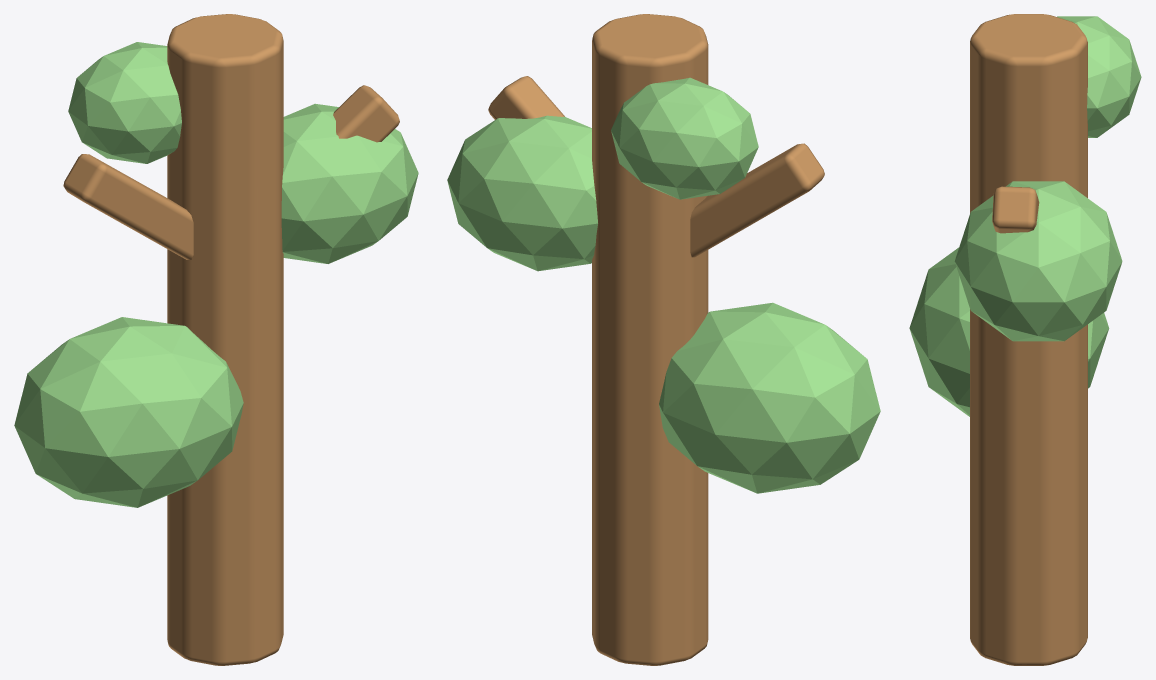
The model's file is Tree_Sparse.fbx.
3 renders of one model, left to right at view 1: azimuth 30°, elevation 25°; view 2: azimuth 150°, elevation 25°; view 3: azimuth 270°, elevation 25°, orthographic.
Visible parts, largest first — view 1: Warm sculpted trunk.001, Remaining foliage 00, Remaining foliage 01, Remaining foliage 02, Branch.002, Branch.003; view 2: Warm sculpted trunk.001, Remaining foliage 00, Remaining foliage 01, Remaining foliage 02, Branch.002, Branch.003; view 3: Warm sculpted trunk.001, Remaining foliage 01, Remaining foliage 00, Remaining foliage 02, Branch.003.
Boxes of the visible parts, bbox=[...] form: Warm sculpted trunk.001: bbox=[167, 14, 283, 665]; Remaining foliage 00: bbox=[14, 317, 243, 507]; Remaining foliage 01: bbox=[281, 103, 418, 263]; Remaining foliage 02: bbox=[68, 42, 181, 163]; Branch.002: bbox=[63, 154, 193, 259]; Branch.003: bbox=[333, 85, 399, 142]; Warm sculpted trunk.001: bbox=[592, 14, 708, 665]; Remaining foliage 00: bbox=[659, 302, 880, 493]; Remaining foliage 01: bbox=[447, 115, 597, 271]; Remaining foliage 02: bbox=[611, 77, 758, 199]; Branch.002: bbox=[690, 143, 824, 257]; Branch.003: bbox=[488, 76, 564, 119]; Warm sculpted trunk.001: bbox=[970, 14, 1087, 665]; Remaining foliage 01: bbox=[954, 181, 1122, 341]; Remaining foliage 00: bbox=[909, 247, 1109, 416]; Remaining foliage 02: bbox=[1057, 16, 1141, 137]; Branch.003: bbox=[992, 186, 1039, 233].
Size of the model in its own units: 464 by 690 by 238.
